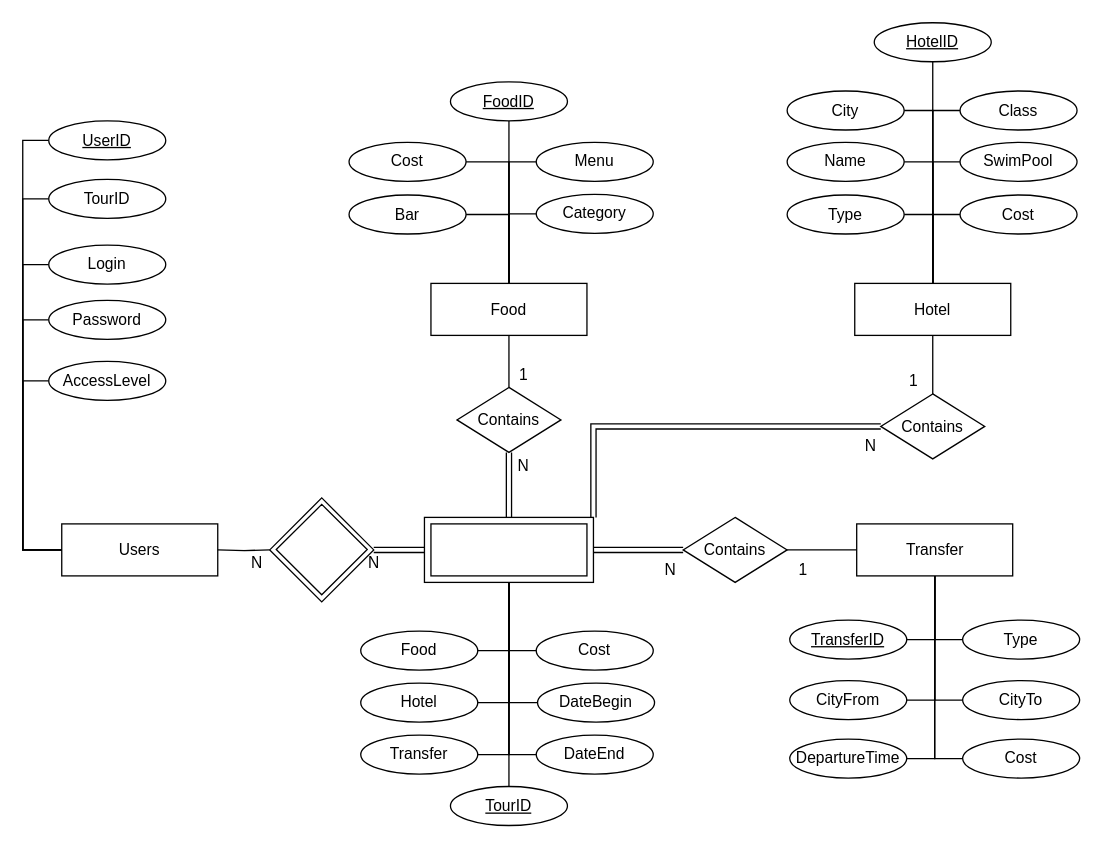
This 1102x849 diagram has some shape labels left out. The shapes that lost their labels are listed below. From the top down, each one's box as (x1, y1, x2, y2) in pixels, then its label:
(275, 503, 367, 595): Has
(430, 523, 587, 576): Tour
